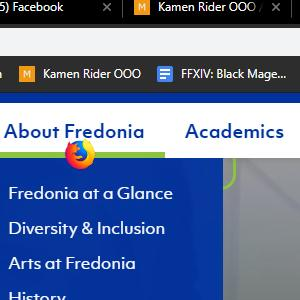firefox: (65, 138, 95, 170)
